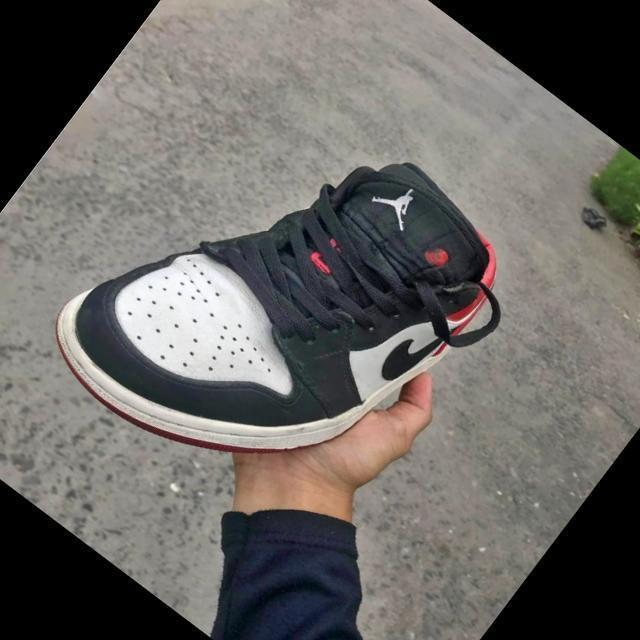nike original jordan 1: (27, 42, 530, 553)
